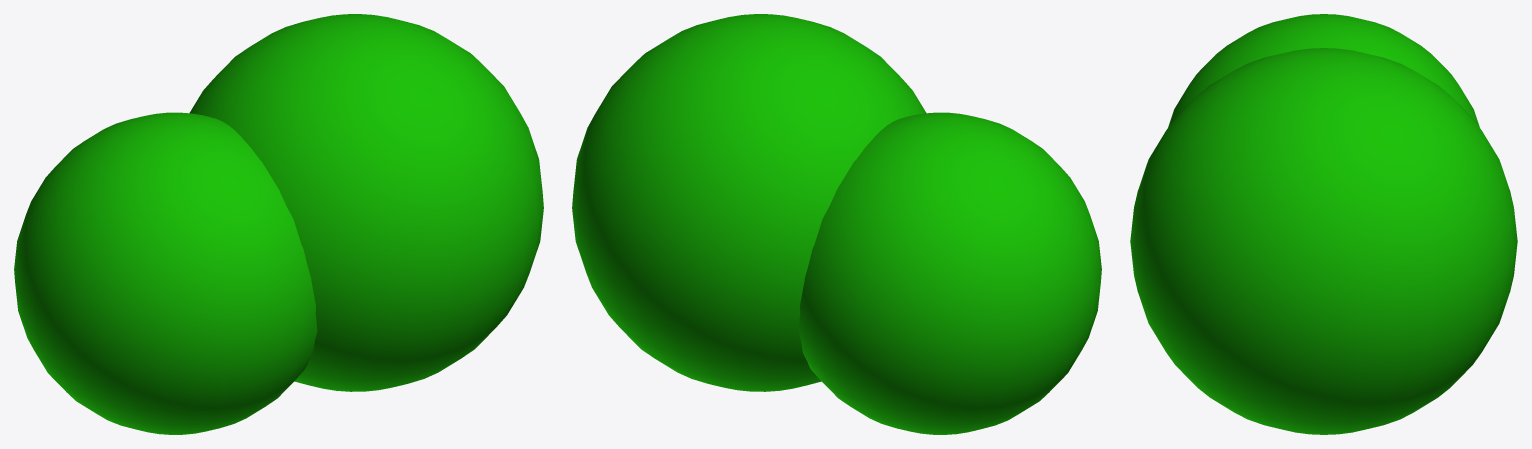
Rendered from Kust1.fbx.
3 renders of one model, left to right at view 1: azimuth 30°, elevation 25°; view 2: azimuth 150°, elevation 25°; view 3: azimuth 270°, elevation 25°, orthographic. The views are drawn at different scales.
Visible parts, largest first — view 1: Sphere.001; view 2: Sphere.001; view 3: Sphere.001.
Part boxes in pixels (x1,y1,x2,y2): Sphere.001: (14,14,543,434); Sphere.001: (572,14,1101,434); Sphere.001: (1130,14,1517,434).
Size of the model in its own units: 295 by 201 by 200.
